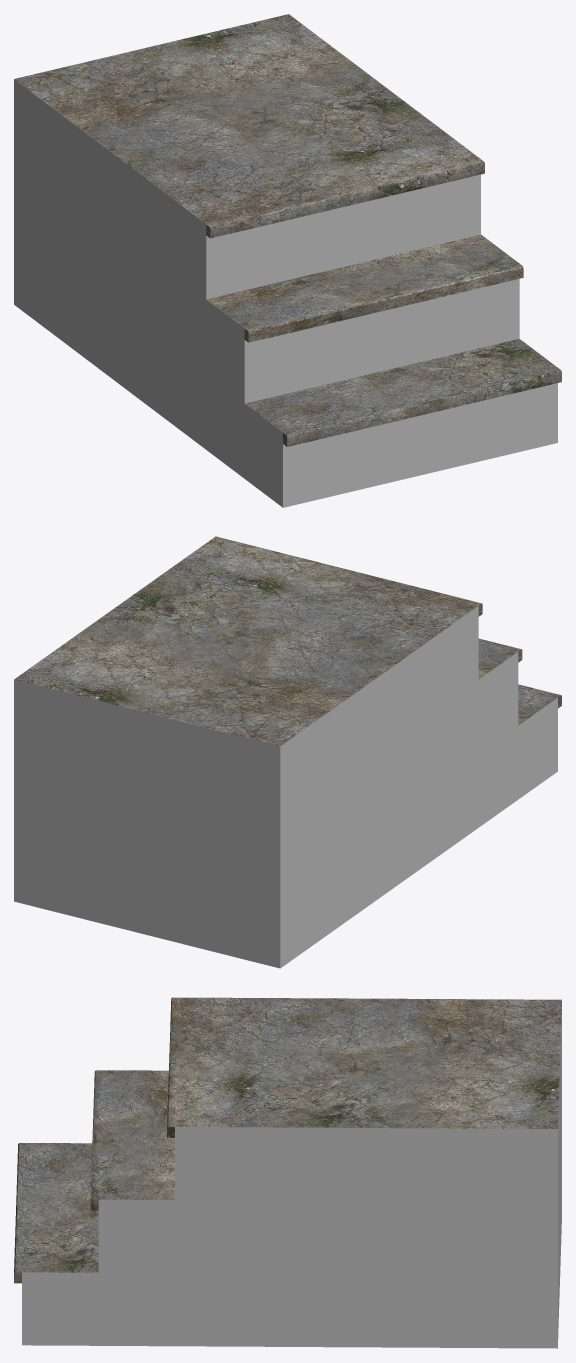
File: Small_Door_Stairs.fbx
The picture shows the model from 3 angles, top to bottom: view 1: azimuth 30°, elevation 25°; view 2: azimuth 150°, elevation 25°; view 3: azimuth 270°, elevation 25°; orthographic projection. The views are drawn at different scales.
Visible parts, largest first — view 1: Small_Door_Stairs; view 2: Small_Door_Stairs; view 3: Small_Door_Stairs.
Part boxes in pixels (left/top/right/bottom): Small_Door_Stairs: left=14, top=14, right=561, bottom=507; Small_Door_Stairs: left=14, top=536, right=561, bottom=968; Small_Door_Stairs: left=14, top=997, right=561, bottom=1348.
Size of the model in its own units: 102 by 79.05 by 179.
